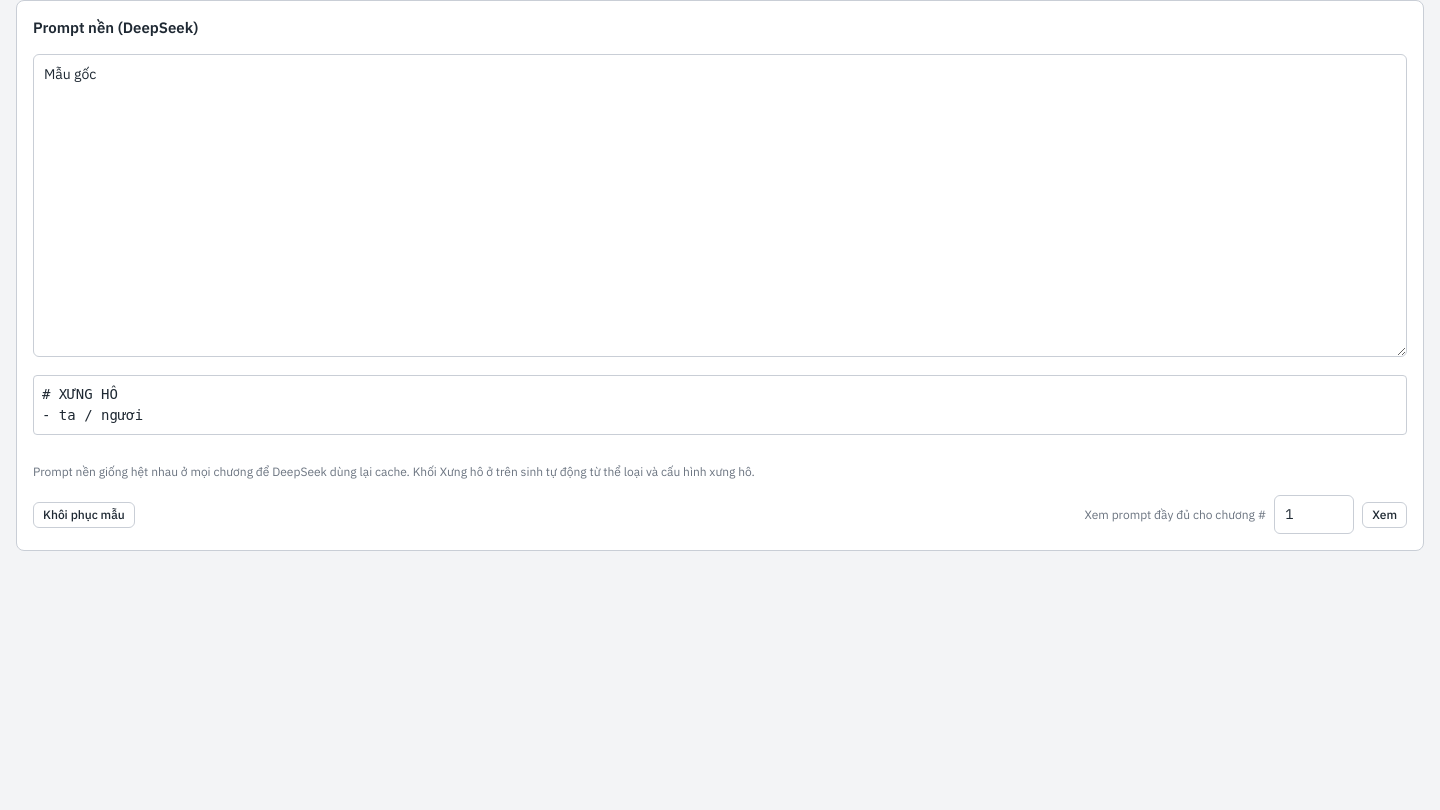
Test case: khôi phục mẫu và xem prompt đầy đủ cho một chương
The image size is (1440, 810).
Expected: the text box showing "Mẫu gốc" is shown, [33,54,1407,357]
Click the button "Khôi phục mẫu" at x=84, y=515, box [33,502,135,528]
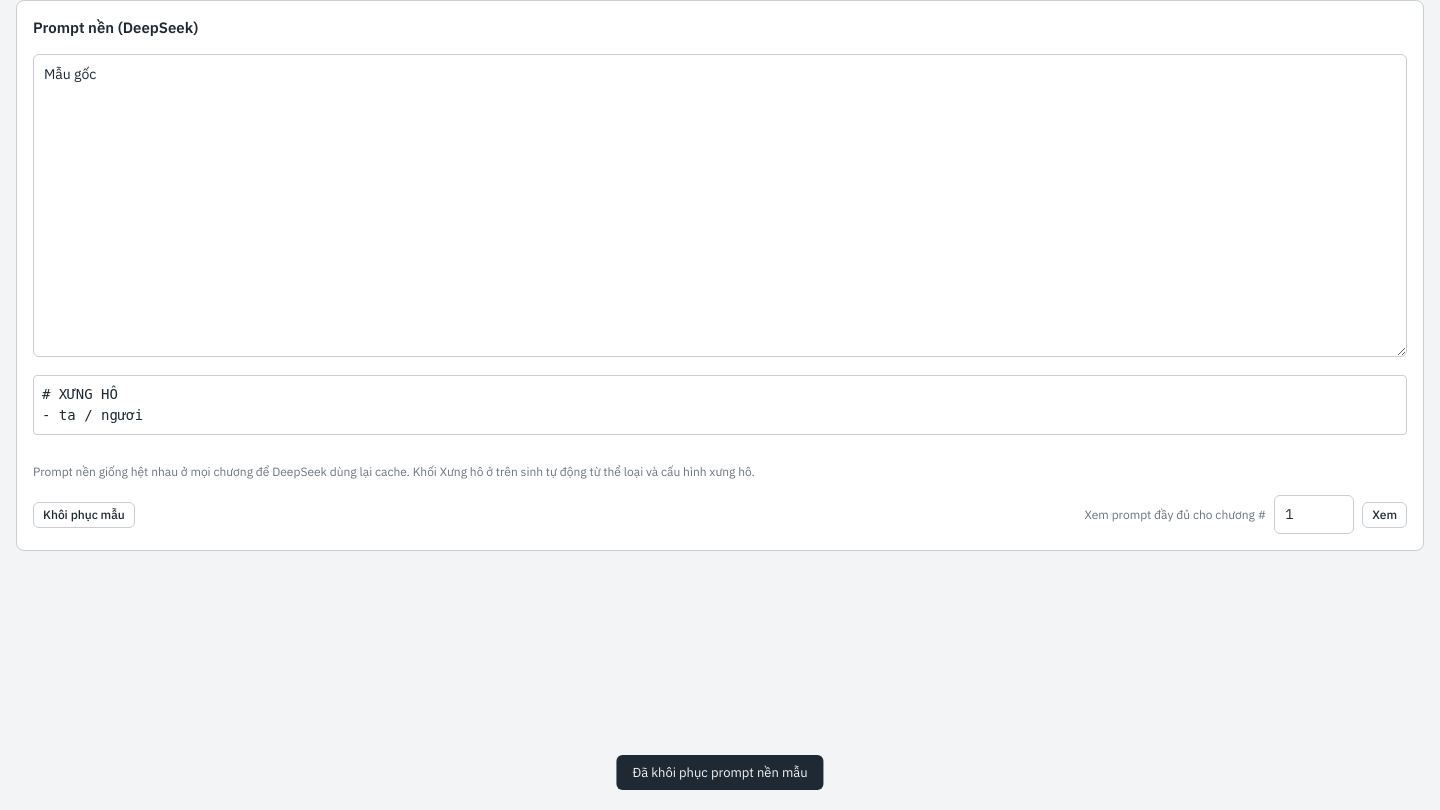
Replace the text in the number field labelled "Xem prompt đầy đủ cho chương #" with "3" at x=1314, y=515, box [1274,495,1354,534]
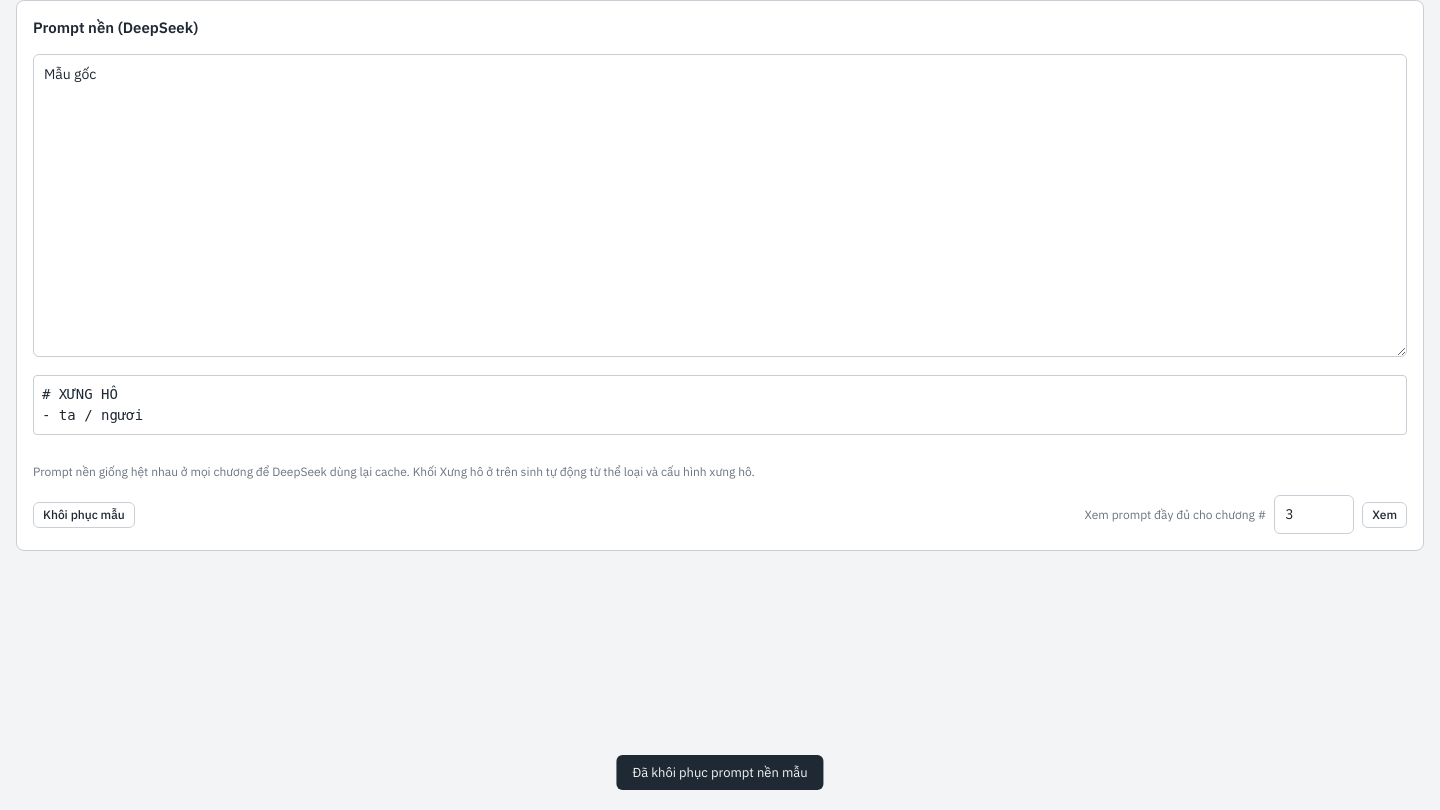
Click the button "Xem" at x=1385, y=515, box [1362,502,1407,528]
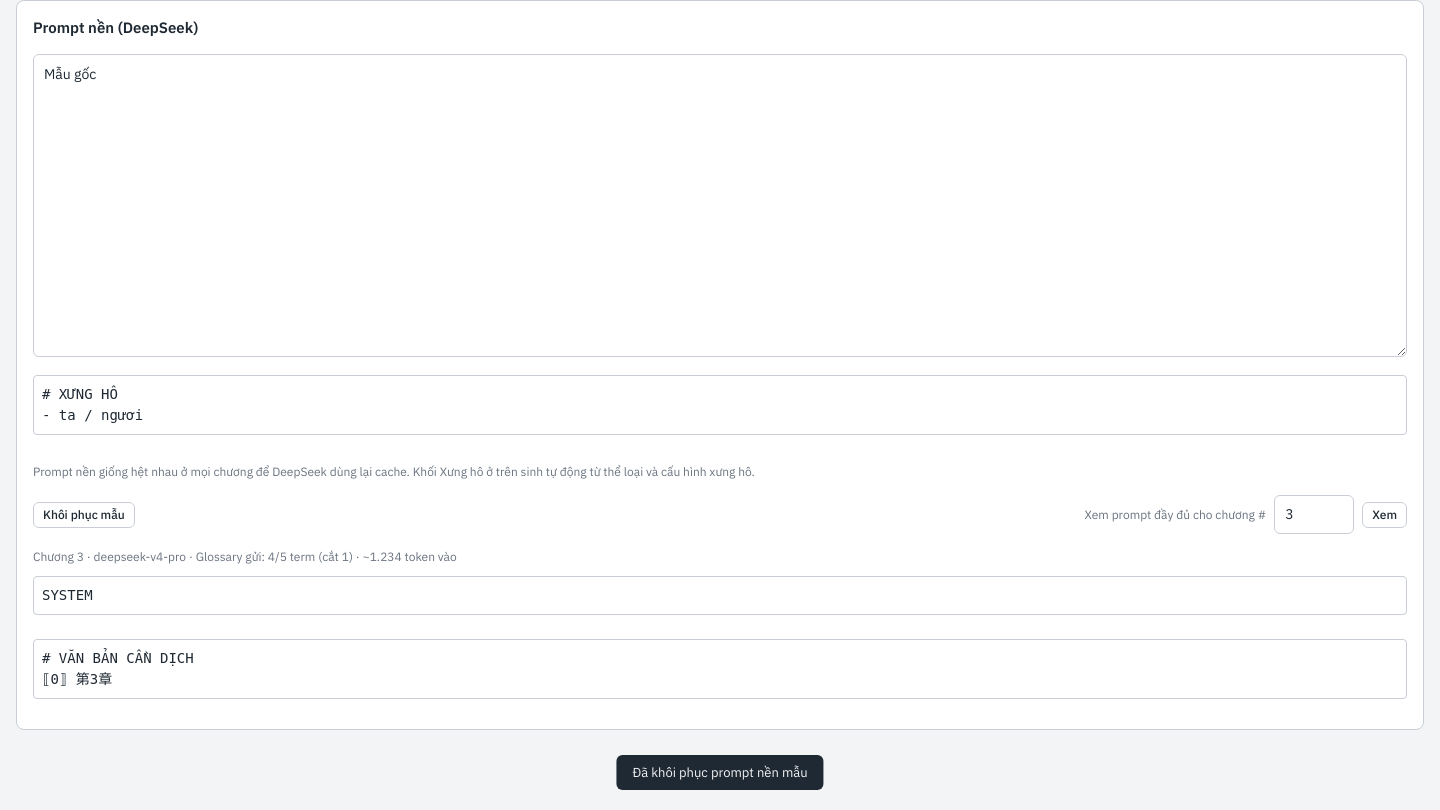
Expected: the text named "User prompt" shows "⟦0⟧ 第3章", [42,650,194,687]
Expected: the text "Glossary gửi: 4/5 term (cắt 1)" is shown, [33,549,457,564]
